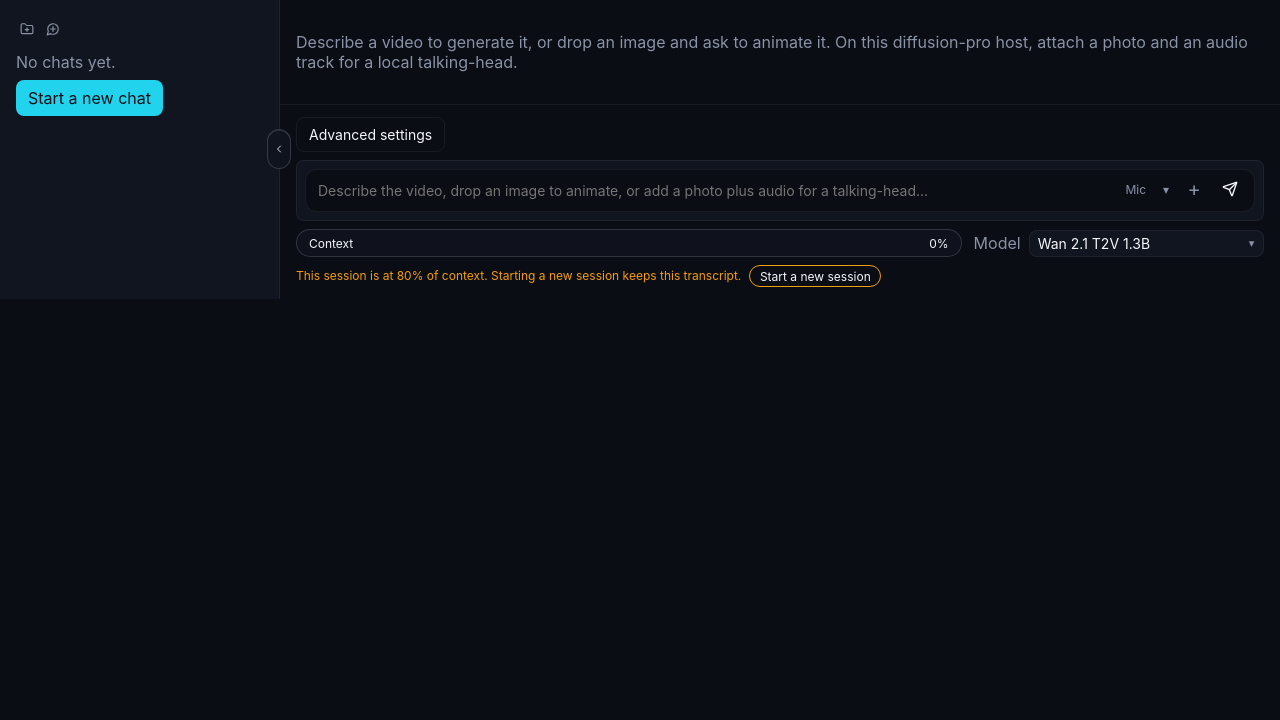
Test: VideoLabPage (chat) › shows the shaping orb while a clip is pending
Replace the text in the text box with test id "media-composer-textarea" with "a fox" at (780, 190), box [306,170,1254,211]
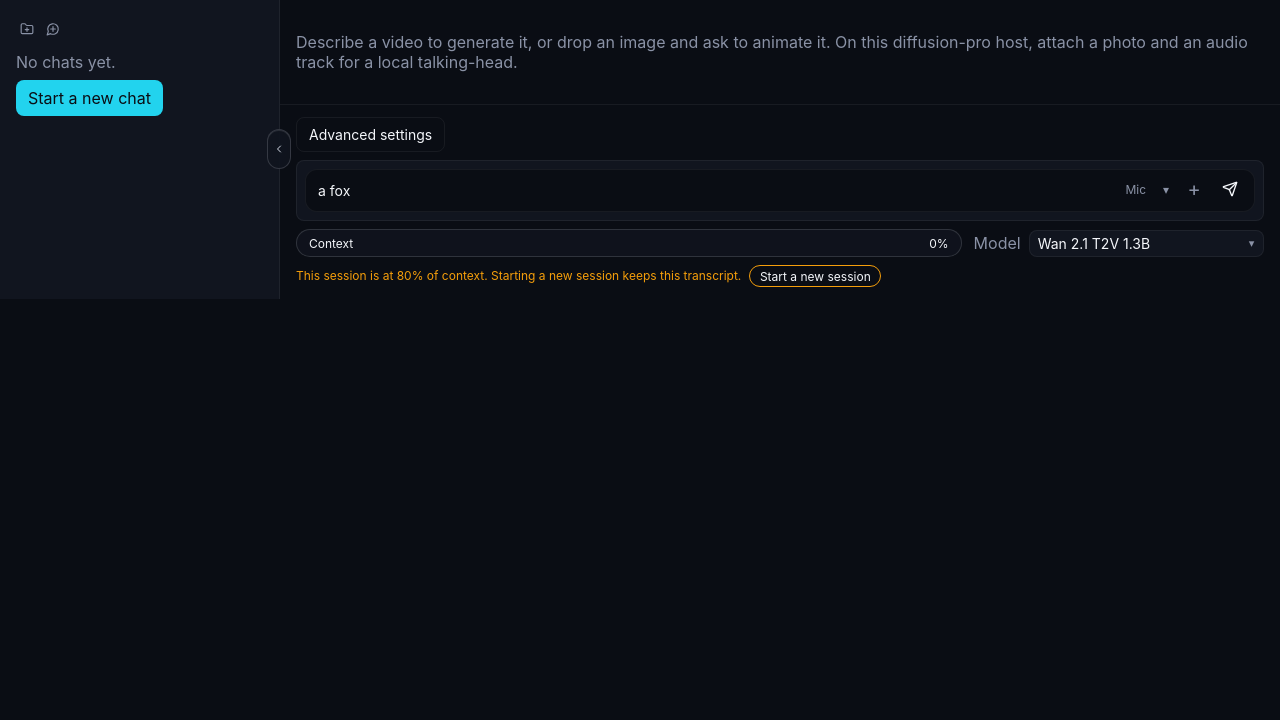
Click the button with test id "media-composer-submit" at (1230, 189), box [1214,173,1246,205]
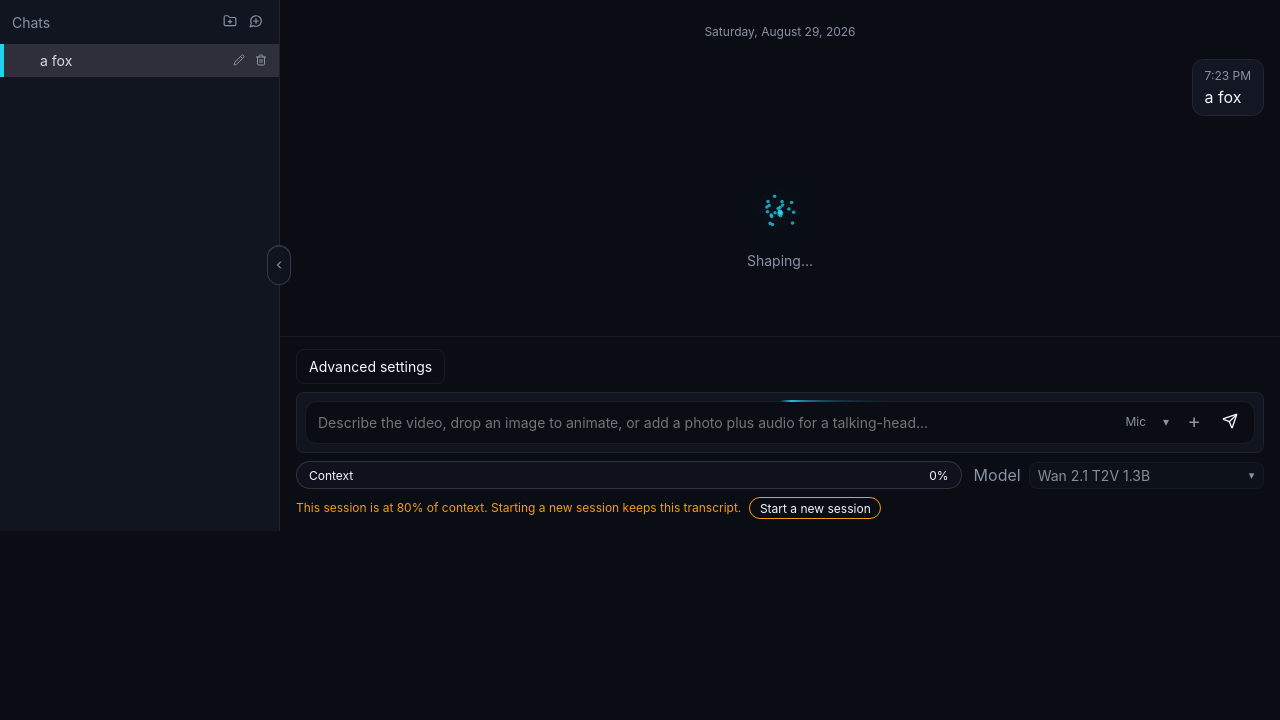
Expected: the text "Shaping..." is shown, [747,252,813,268]
